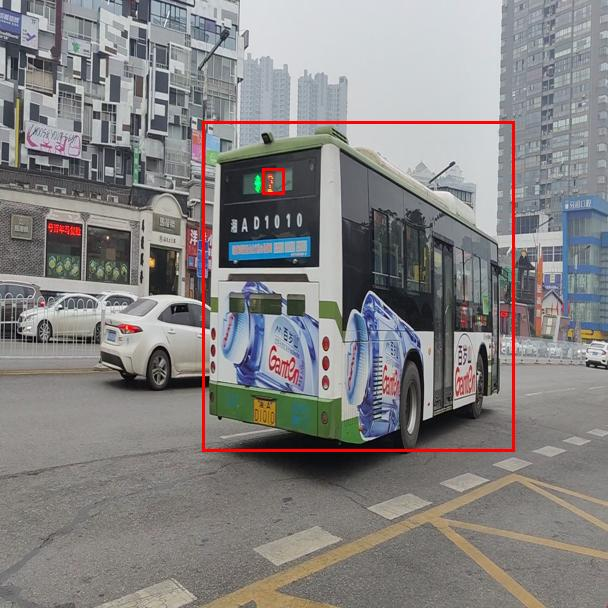bus: (202, 121, 514, 451)
screen: (262, 168, 284, 194)
